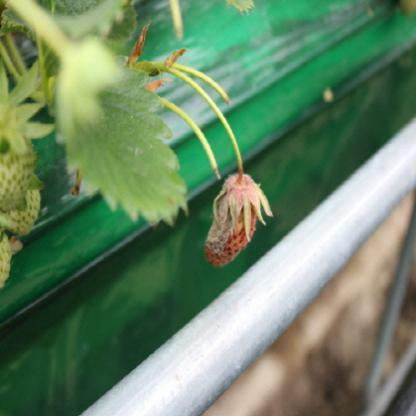Strawberry_Gray_Mold: (204, 170, 275, 267)
